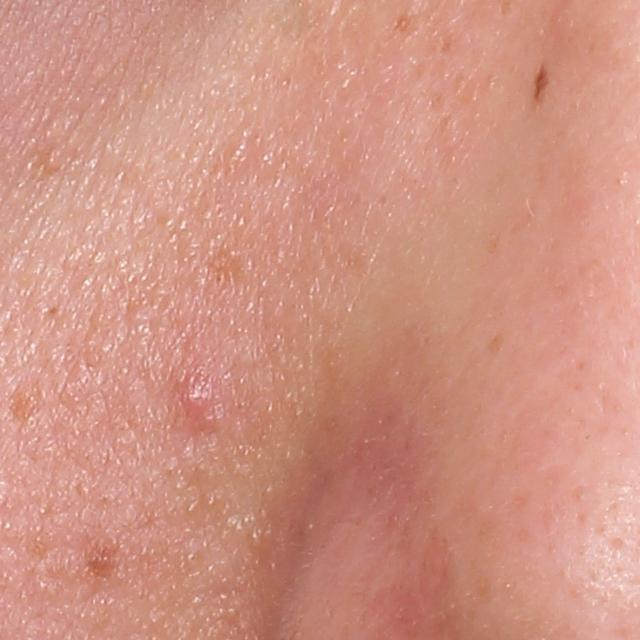melasma: (199, 240, 255, 294), (78, 530, 126, 583), (389, 6, 427, 41)
nevus: (530, 62, 553, 104)
papule: (173, 371, 227, 428)
